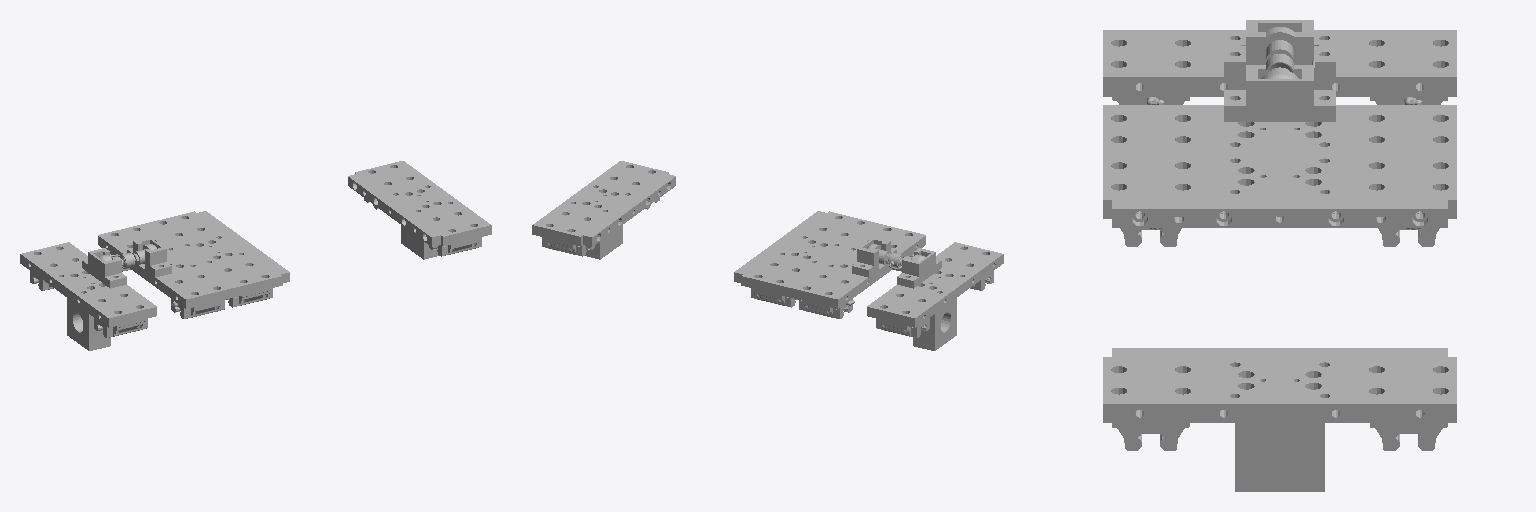
URDF robot description (urdf_files):
<?xml version="1.0" encoding="utf-8"?>
<!-- This URDF was automatically created by SolidWorks to URDF Exporter! Originally created by [author] ([email redacted]) 
     Commit Version: 1.6.0-4-g7f85cfe  Build Version: 1.6.7995.38578
     For more information, please see http://wiki.ros.org/sw_urdf_exporter -->
<robot
  name="urdf_files">
  <link
    name="base_link">
    <inertial>
      <origin
        xyz="-1.0865E-07 -0.00019703 0.040628"
        rpy="0 0 0" />
      <mass
        value="147.43" />
      <inertia
        ixx="1.0394"
        ixy="3.1408E-07"
        ixz="-9.6413E-07"
        iyy="18.498"
        iyz="-1.0271E-05"
        izz="19.421" />
    </inertial>
    <visual>
      <origin
        xyz="0 0 0"
        rpy="0 0 0" />
      <geometry>
        <mesh
          filename="package://urdf_files/meshes/base_link.STL" />
      </geometry>
      <material
        name="">
        <color
          rgba="0.75294 0.75294 0.75294 1" />
      </material>
    </visual>
    <collision>
      <origin
        xyz="0 0 0"
        rpy="0 0 0" />
      <geometry>
        <mesh
          filename="package://urdf_files/meshes/base_link.STL" />
      </geometry>
    </collision>
  </link>
  <link
    name="link_1">
    <inertial>
      <origin
        xyz="-0.20394 5.3438E-06 -0.015363"
        rpy="0 0 0" />
      <mass
        value="18.505" />
      <inertia
        ixx="0.12026"
        ixy="9.5669E-07"
        ixz="-3.1152E-06"
        iyy="0.014885"
        iyz="-6.6837E-08"
        izz="0.12951" />
    </inertial>
    <visual>
      <origin
        xyz="0 0 0"
        rpy="0 0 0" />
      <geometry>
        <mesh
          filename="package://urdf_files/meshes/link_1.STL" />
      </geometry>
      <material
        name="">
        <color
          rgba="0.75294 0.75294 0.75294 1" />
      </material>
    </visual>
    <collision>
      <origin
        xyz="0 0 0"
        rpy="0 0 0" />
      <geometry>
        <mesh
          filename="package://urdf_files/meshes/link_1.STL" />
      </geometry>
    </collision>
  </link>
  <joint
    name="joint_1"
    type="prismatic">
    <origin
      xyz="-0.038092 0 0.18042"
      rpy="0 0 0" />
    <parent
      link="base_link" />
    <child
      link="link_1" />
    <axis
      xyz="1 0 0" />
    <limit
      lower="0"
      upper="0"
      effort="0"
      velocity="0" />
  </joint>
  <link
    name="link_2">
    <inertial>
      <origin
        xyz="0.063069 -1.9306E-06 -0.02353"
        rpy="0 0 0" />
      <mass
        value="7.3822" />
      <inertia
        ixx="0.044429"
        ixy="2.1429E-07"
        ixz="4.9245E-07"
        iyy="0.0054955"
        iyz="6.0516E-08"
        izz="0.047349" />
    </inertial>
    <visual>
      <origin
        xyz="0 0 0"
        rpy="0 0 0" />
      <geometry>
        <mesh
          filename="package://urdf_files/meshes/link_2.STL" />
      </geometry>
      <material
        name="">
        <color
          rgba="0.75294 0.75294 0.75294 1" />
      </material>
    </visual>
    <collision>
      <origin
        xyz="0 0 0"
        rpy="0 0 0" />
      <geometry>
        <mesh
          filename="package://urdf_files/meshes/link_2.STL" />
      </geometry>
    </collision>
  </link>
  <joint
    name="joint_2"
    type="prismatic">
    <origin
      xyz="0.25443 0 0.18042"
      rpy="0 0 0" />
    <parent
      link="base_link" />
    <child
      link="link_2" />
    <axis
      xyz="1 0 0" />
    <limit
      lower="0"
      upper="0"
      effort="0"
      velocity="0" />
  </joint>
</robot>

--- Facts derived from the render (not from the file) ---
Views: 3 orthographic renders of the robot side by side, from view 1: azimuth 30°, elevation 25°; view 2: azimuth 150°, elevation 25°; view 3: azimuth 270°, elevation 25°.
Model urdf_files with 3 links and 2 joints (2 prismatic), rooted at base_link, posed all joints at 0.
Visible links, largest first — view 1: link_1, link_2; view 2: link_1, link_2; view 3: link_1, link_2.
Link boxes in pixels (x1,y1,x2,y2): link_1: (20, 211, 289, 350); link_2: (348, 161, 491, 259); link_1: (734, 211, 1003, 350); link_2: (532, 161, 675, 259); link_1: (1103, 20, 1456, 246); link_2: (1103, 348, 1456, 491).
Size in the robot's own frame: 0.7896 by 0.315 by 0.159 metres.
Meshes: 3 distinct files referenced, 2 mesh visuals loaded (2 binary STL); not drawn: 1 (reference not matched to a file when rendering).